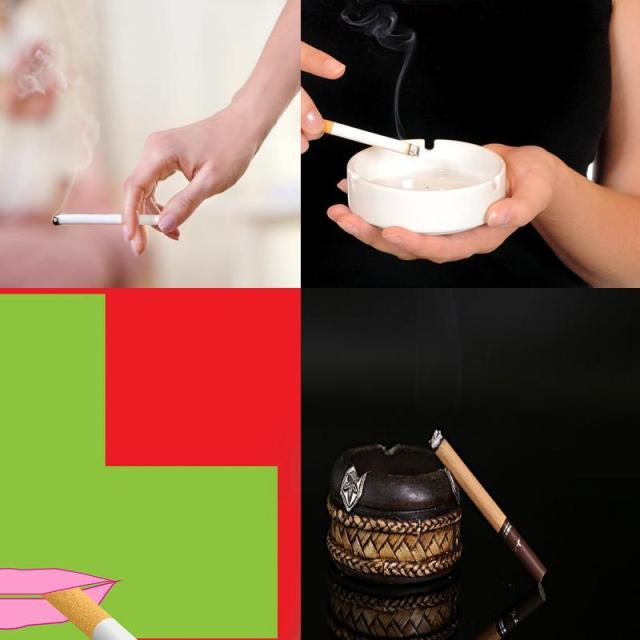smoking: (424, 424, 546, 587), (44, 584, 276, 640), (300, 112, 422, 158), (53, 216, 168, 227)
